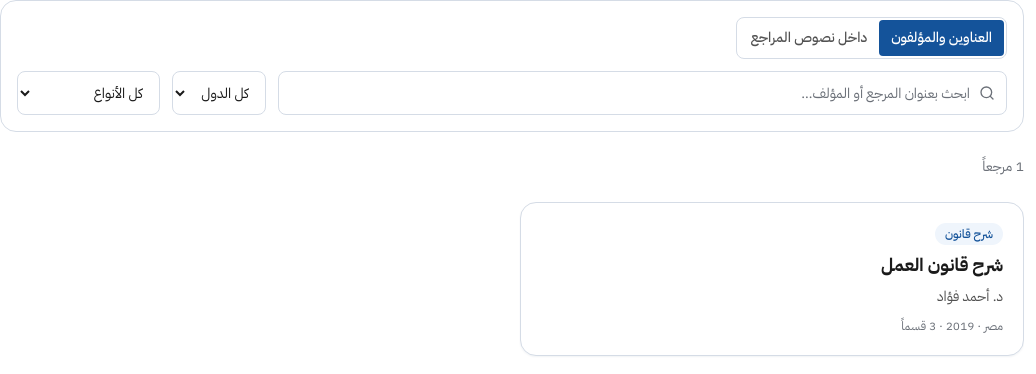
ReferencesBrowser › البحث داخل النصوص: نص قصير لا يرسل طلباً، ونص صالح يعرض مقتطفاً مظلّلاً بقسمه
Expected: the link "شرح قانون شرح قانون العمل د. أحمد فؤاد مصر · 2019 · 3 قسماً" is shown, [520,202,1024,356]
Click the tab "داخل نصوص المراجع". click: (809, 38)
box: [739,20,879,56]
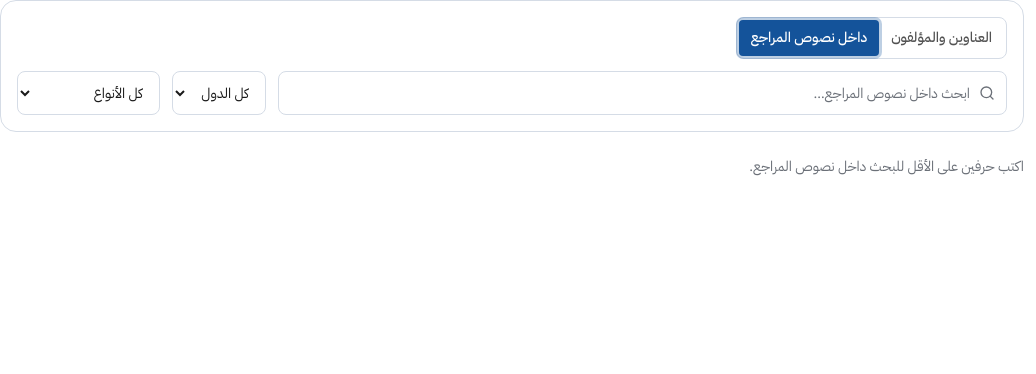
Result: the text "اكتب حرفين على الأقل للبحث داخل نصوص المراجع." is shown at [749,156,1024,177]
Type "عقد" into the search field. click: (642, 93)
box: [278,71,1007,115]
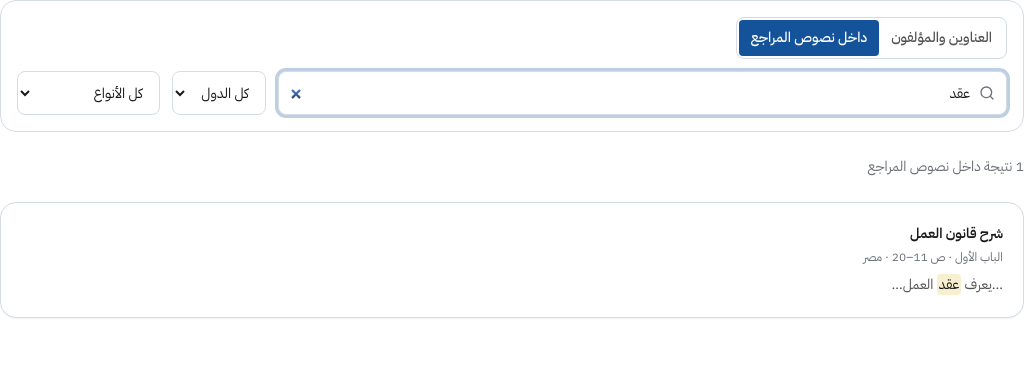
Result: the link "شرح قانون العمل الباب الأول · ص 11–20 · مصر …يعرف عقد العمل…" is shown at [0,202,1024,318]
